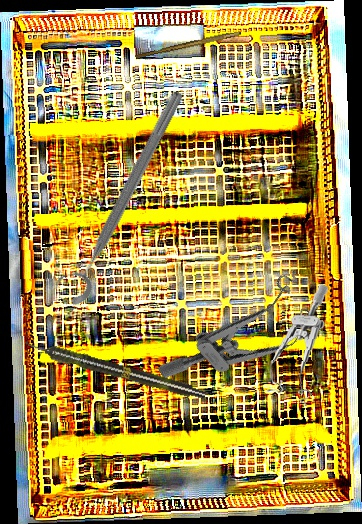Fixation Ring: (47, 80, 191, 311)
Handpiece: (22, 336, 208, 403)
Scalpel Handle: (134, 28, 242, 61)
Speculum: (156, 258, 332, 425), (265, 278, 329, 410)
